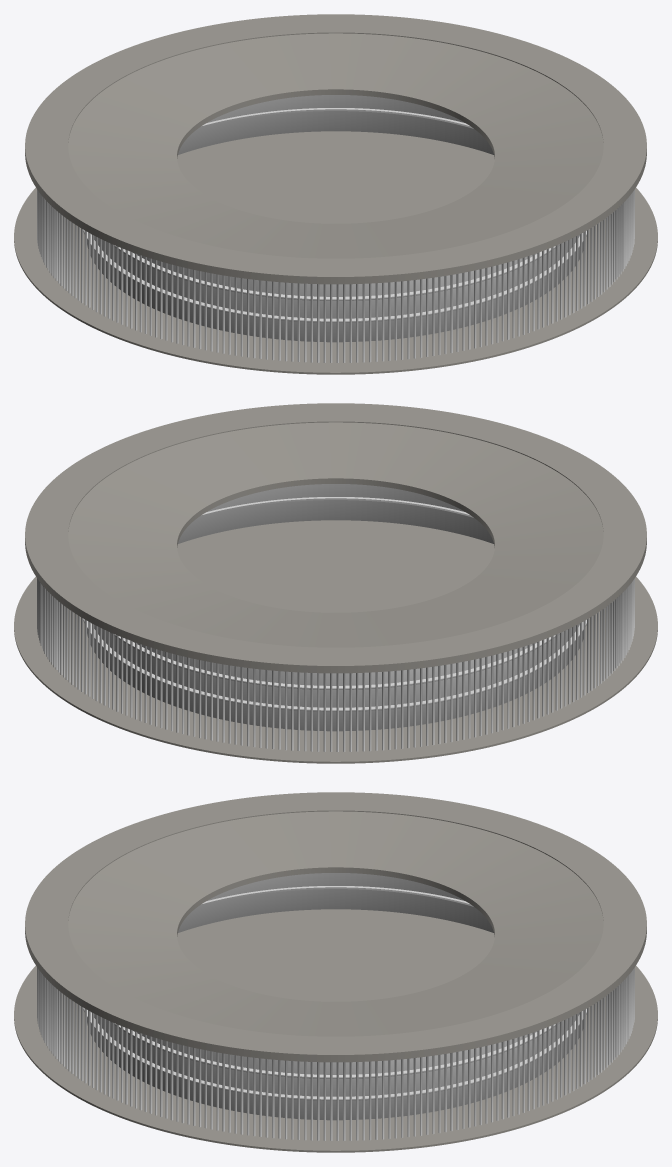
The model's file is MANE_GARRINCHA.fbx.
3 renders of one model, top to bottom at view 1: azimuth 30°, elevation 25°; view 2: azimuth 150°, elevation 25°; view 3: azimuth 270°, elevation 25°, orthographic.
Parts seen in each view (by area): view 1: MG_Cobertura_Membrana, MG_Esplanada, MG_Anel_Compressao, MG_Pilares_288, MG_Fachada_Externa, MG_Lajes_Fachada, MG_Mureta_Esplanada; view 2: MG_Cobertura_Membrana, MG_Esplanada, MG_Anel_Compressao, MG_Pilares_288, MG_Fachada_Externa, MG_Lajes_Fachada, MG_Mureta_Esplanada; view 3: MG_Cobertura_Membrana, MG_Esplanada, MG_Anel_Compressao, MG_Pilares_288, MG_Fachada_Externa, MG_Lajes_Fachada, MG_Mureta_Esplanada.
Part boxes in pixels (left/top/right/bottom): MG_Cobertura_Membrana: left=68, top=33, right=603, bottom=258; MG_Esplanada: left=14, top=131, right=657, bottom=372; MG_Anel_Compressao: left=25, top=14, right=646, bottom=284; MG_Pilares_288: left=37, top=189, right=634, bottom=362; MG_Fachada_Externa: left=87, top=95, right=583, bottom=342; MG_Lajes_Fachada: left=83, top=108, right=586, bottom=322; MG_Mureta_Esplanada: left=14, top=241, right=657, bottom=374; MG_Cobertura_Membrana: left=68, top=422, right=603, bottom=647; MG_Esplanada: left=14, top=520, right=657, bottom=761; MG_Anel_Compressao: left=25, top=403, right=646, bottom=673; MG_Pilares_288: left=37, top=578, right=634, bottom=751; MG_Fachada_Externa: left=87, top=484, right=583, bottom=731; MG_Lajes_Fachada: left=83, top=497, right=586, bottom=711; MG_Mureta_Esplanada: left=14, top=630, right=657, bottom=763; MG_Cobertura_Membrana: left=68, top=811, right=603, bottom=1036; MG_Esplanada: left=14, top=909, right=657, bottom=1150; MG_Anel_Compressao: left=25, top=792, right=646, bottom=1062; MG_Pilares_288: left=37, top=967, right=634, bottom=1140; MG_Fachada_Externa: left=87, top=873, right=583, bottom=1120; MG_Lajes_Fachada: left=83, top=886, right=586, bottom=1100; MG_Mureta_Esplanada: left=14, top=1019, right=657, bottom=1152.
Bounding box in the file's own units: 130 × 20.74 × 130.
